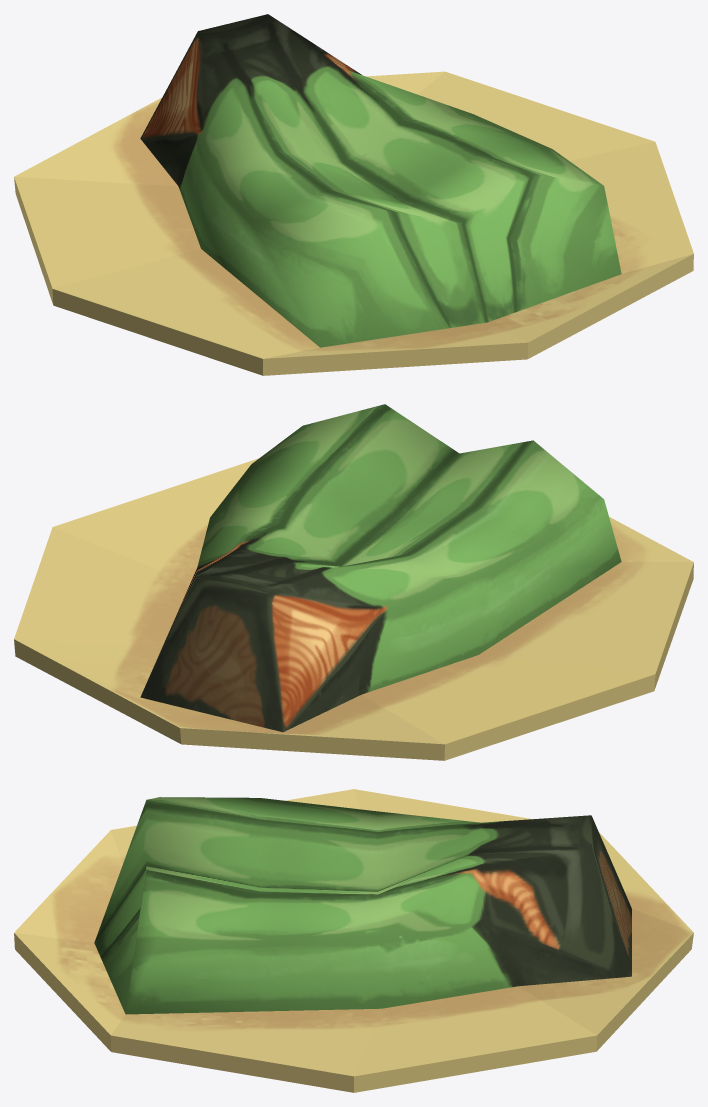
File: greenBananas.fbx
3 views of the same model, one above another, from view 1: azimuth 30°, elevation 25°; view 2: azimuth 150°, elevation 25°; view 3: azimuth 270°, elevation 25° (orthographic). The views are drawn at different scales.
Visible parts, largest first — view 1: greenBananas; view 2: greenBananas; view 3: greenBananas.
Boxes of the visible parts, box(x1,y1,x2,y2) form: greenBananas: box(14, 14, 693, 375); greenBananas: box(14, 404, 693, 760); greenBananas: box(14, 789, 693, 1092).
Bounding box in the file's own units: 0.5215 × 0.108 × 0.5215.
